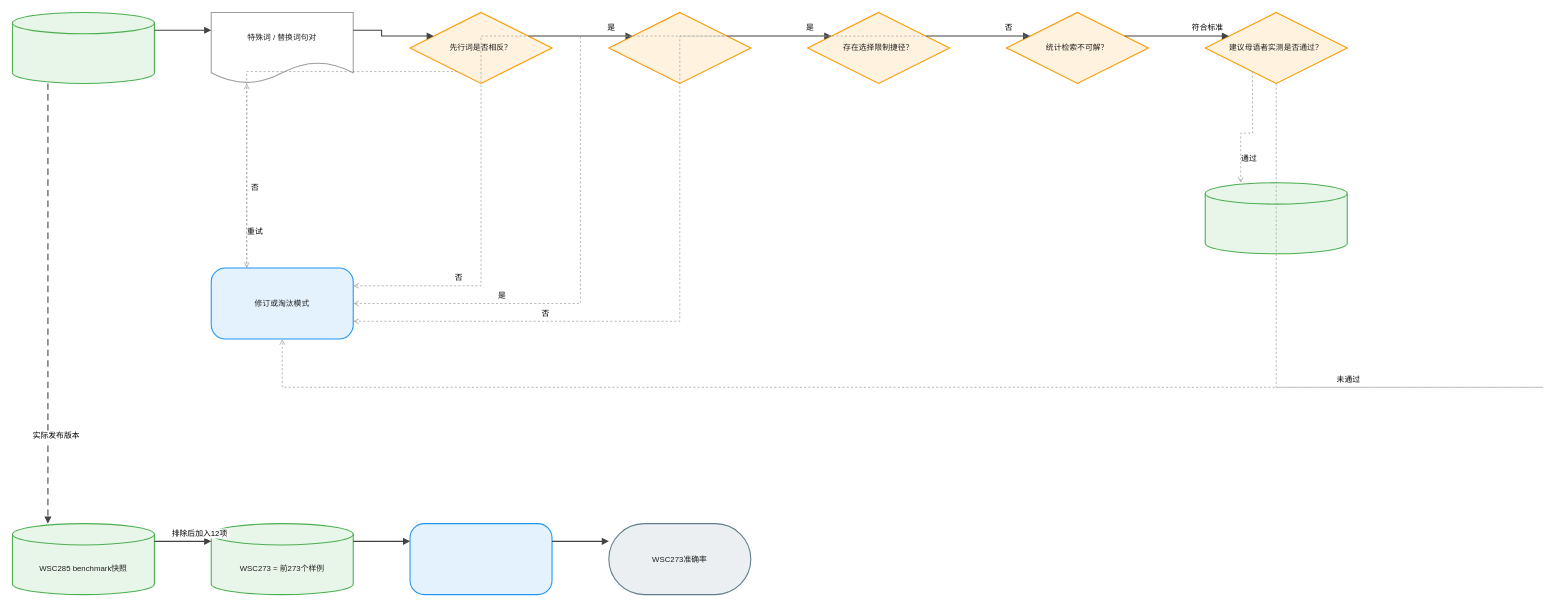
Image size: 1562x608. Some labels were removed from this diagram. Each missing label, with the box of its shape:
专家创作的原始样例: (12, 12, 155, 84)
二元先行词选择: (409, 523, 552, 595)
人类是否显然可解？: (608, 12, 751, 84)
论文建议的隐藏WS题库: (1204, 182, 1347, 254)
